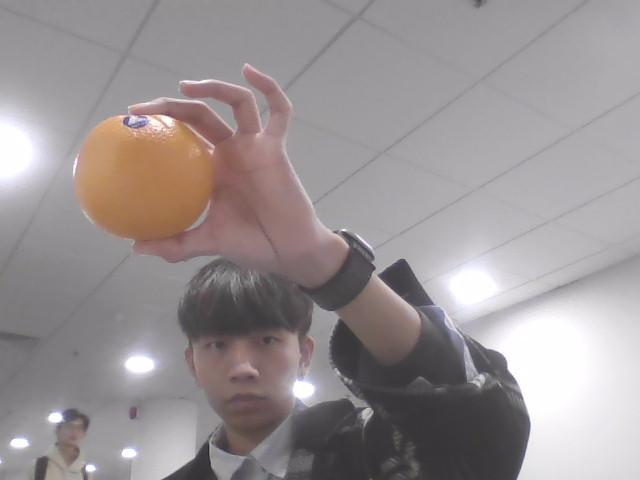orange: (74, 114, 216, 241)
